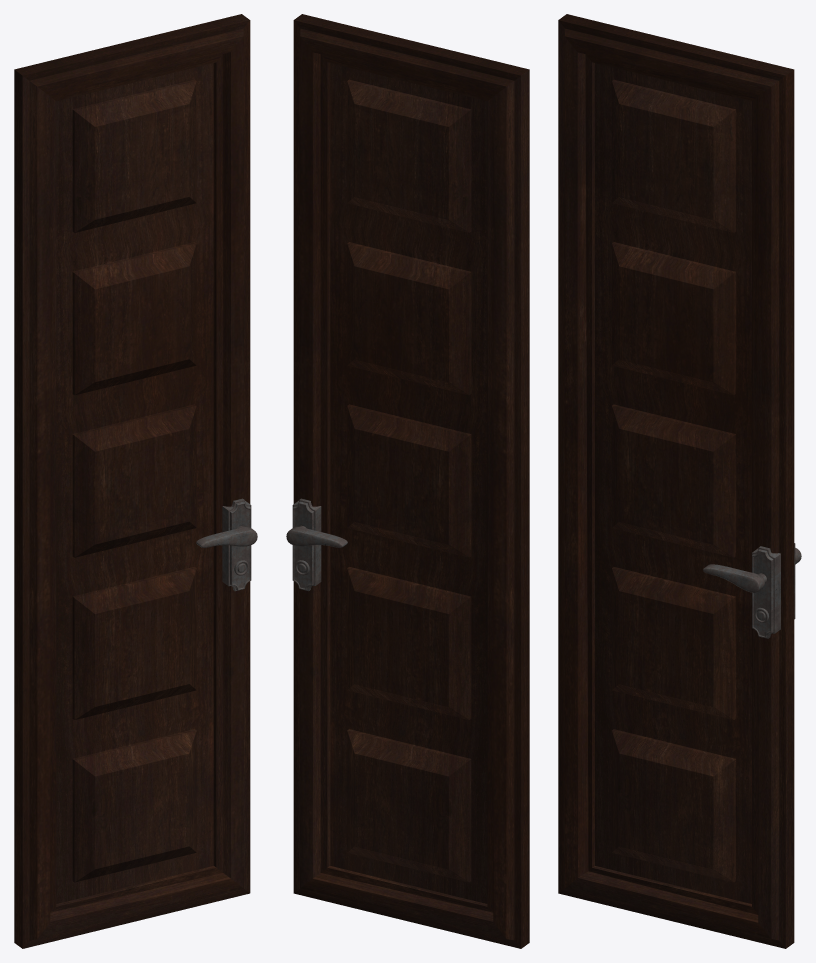
The model's file is SK7 DOOR A.fbx.
3 renders of one model, left to right at view 1: azimuth 30°, elevation 25°; view 2: azimuth 150°, elevation 25°; view 3: azimuth 330°, elevation 25°, orthographic.
Parts seen in each view (by area): view 1: SK7 DOOR A; view 2: SK7 DOOR A; view 3: SK7 DOOR A.
Boxes of the visible parts, x1,y1,x2,y2 form: SK7 DOOR A: (14,14,257,948); SK7 DOOR A: (286,14,529,948); SK7 DOOR A: (558,14,801,948).
Size of the model in its own units: 62.66 by 230 by 20.81.
